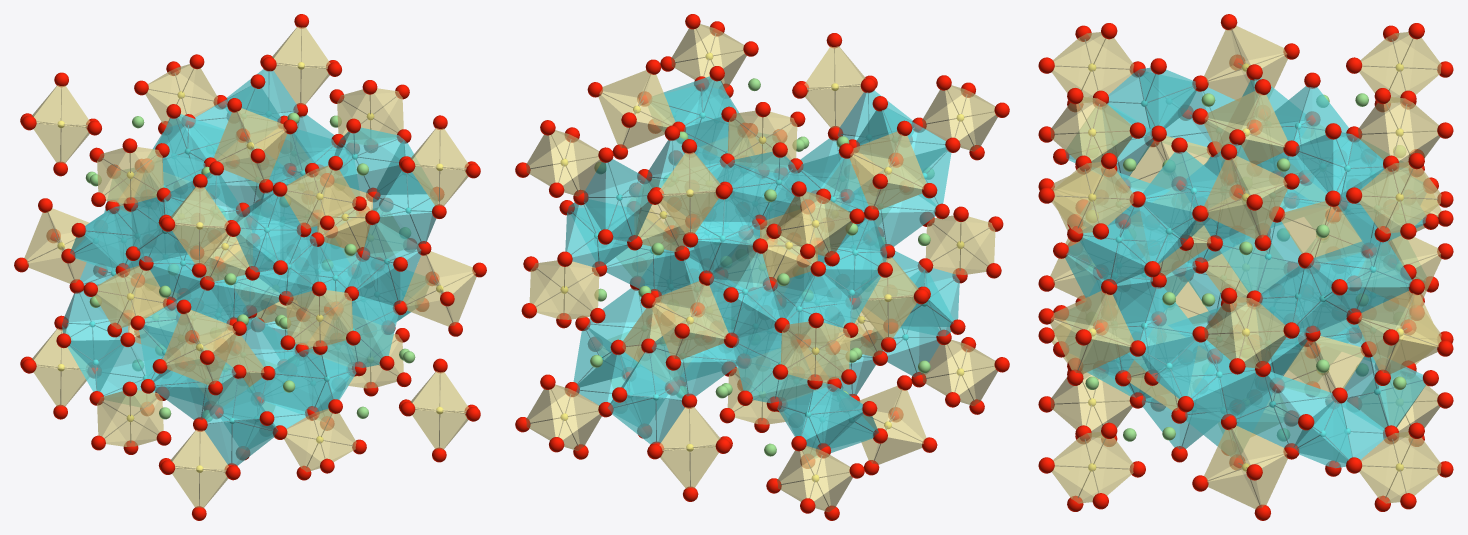
The picture shows the model from 3 angles, left to right: view 1: azimuth 30°, elevation 25°; view 2: azimuth 150°, elevation 25°; view 3: azimuth 270°, elevation 25°; orthographic projection. The views are drawn at different scales.
Parts seen in each view (by area): view 1: Shape_IndexedFaceSet.280, Shape_IndexedFaceSet, atom6_IndexedFaceSet, Shape_Cylinder, atom0_IndexedFaceSet, atom2_IndexedFaceSet; view 2: Shape_IndexedFaceSet.280, Shape_IndexedFaceSet, atom6_IndexedFaceSet, Shape_Cylinder, atom0_IndexedFaceSet, atom2_IndexedFaceSet; view 3: Shape_IndexedFaceSet.280, Shape_IndexedFaceSet, atom6_IndexedFaceSet, Shape_Cylinder, atom0_IndexedFaceSet, atom2_IndexedFaceSet, atom3_IndexedFaceSet.
Boxes of the visible parts, <box> form: Shape_IndexedFaceSet.280: <box>62,69,437,465</box>; Shape_IndexedFaceSet: <box>24,27,476,508</box>; atom6_IndexedFaceSet: <box>14,14,486,520</box>; Shape_Cylinder: <box>28,29,472,505</box>; atom0_IndexedFaceSet: <box>85,112,415,421</box>; atom2_IndexedFaceSet: <box>57,62,443,472</box>; Shape_IndexedFaceSet.280: <box>565,76,959,458</box>; Shape_IndexedFaceSet: <box>526,24,997,511</box>; atom6_IndexedFaceSet: <box>515,14,1009,520</box>; Shape_Cylinder: <box>530,28,994,507</box>; atom0_IndexedFaceSet: <box>590,78,934,456</box>; atom2_IndexedFaceSet: <box>560,52,964,482</box>; Shape_IndexedFaceSet.280: <box>1065,67,1426,468</box>; Shape_IndexedFaceSet: <box>1050,26,1441,509</box>; atom6_IndexedFaceSet: <box>1038,14,1453,520</box>; Shape_Cylinder: <box>1054,30,1437,504</box>; atom0_IndexedFaceSet: <box>1085,93,1406,441</box>; atom2_IndexedFaceSet: <box>1088,63,1403,471</box>; atom3_IndexedFaceSet: <box>1115,100,1380,436</box>.
Bounding box in the file's own units: 17.75 × 17.27 × 17.72.
